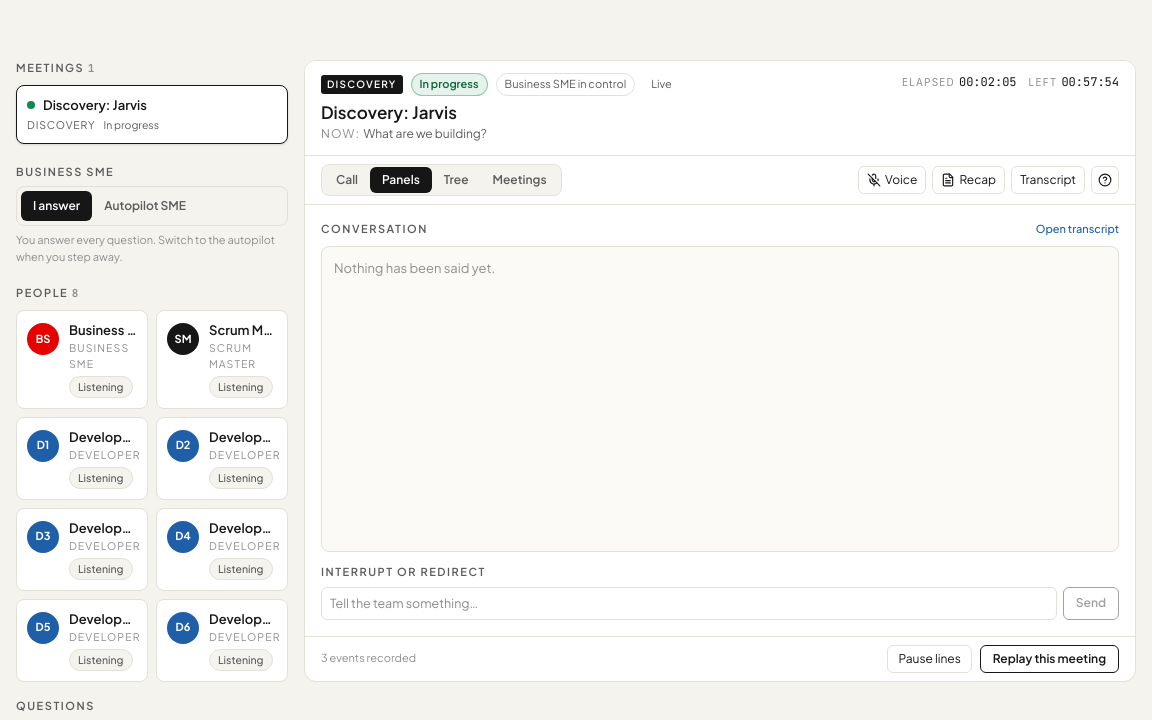
Test case: the Business SME › interrupts or redirects the meeting with a message to the team
Expected: the header with test id "meeting-header" is shown, [305,61,1135,156]
Type "Please keep it simple" into the field labelled "Interrupt or redirect".
click(689, 603); type("Please keep it simple")  # box [321,587,1057,620]
Then press Enter
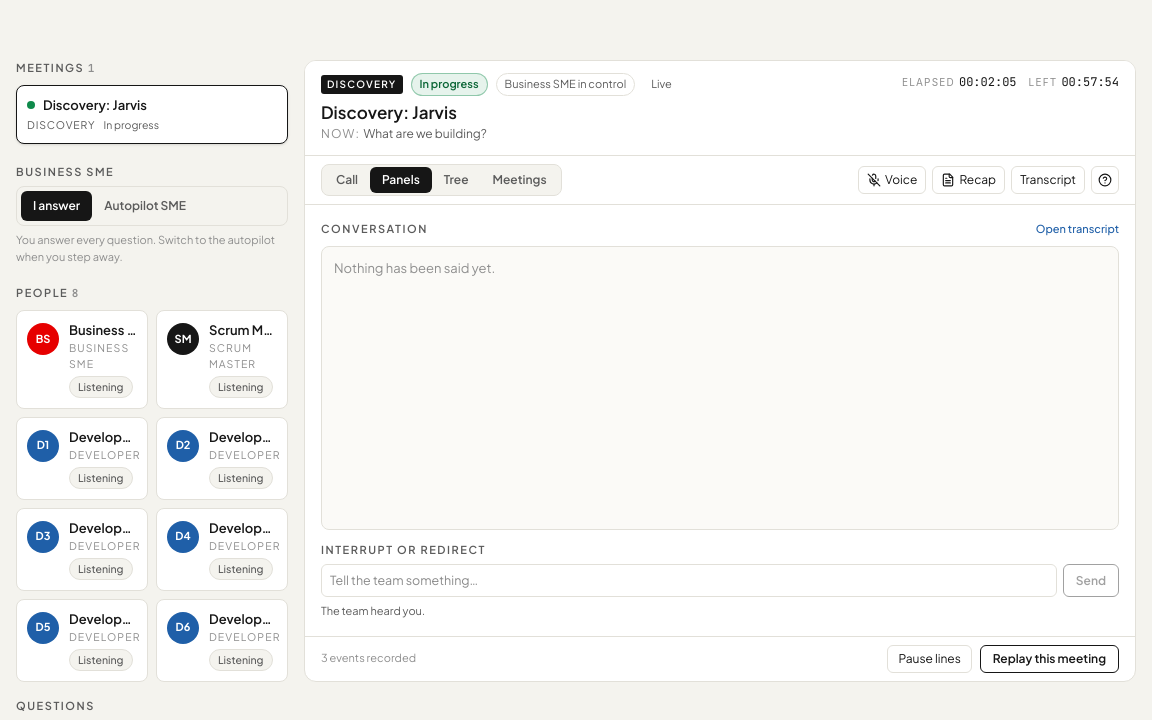
Now the text "The team heard you." is shown, box [321,604,425,617]
